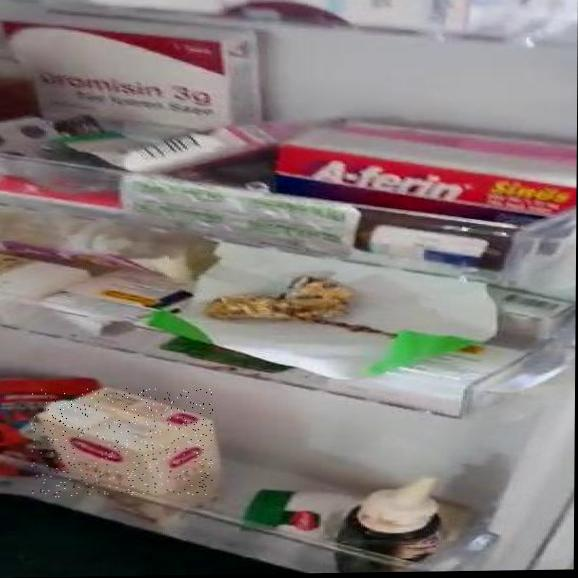milk: (30, 387, 213, 498)
